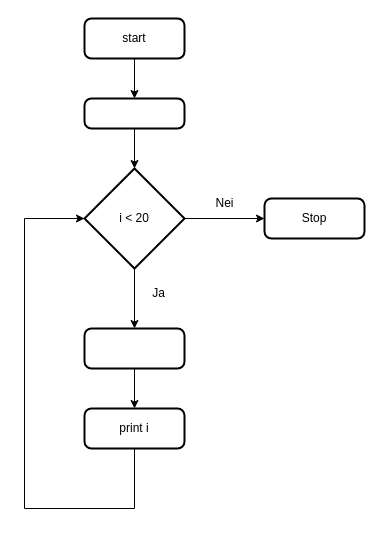
Some shapes in this 383 by 534 pixel diagram are drawn without their labels. The box of each missing label's shape, as (x1, y1, x2, y2) in pixels:
i + 2: (83, 327, 185, 369)
i = 0: (83, 97, 185, 129)
